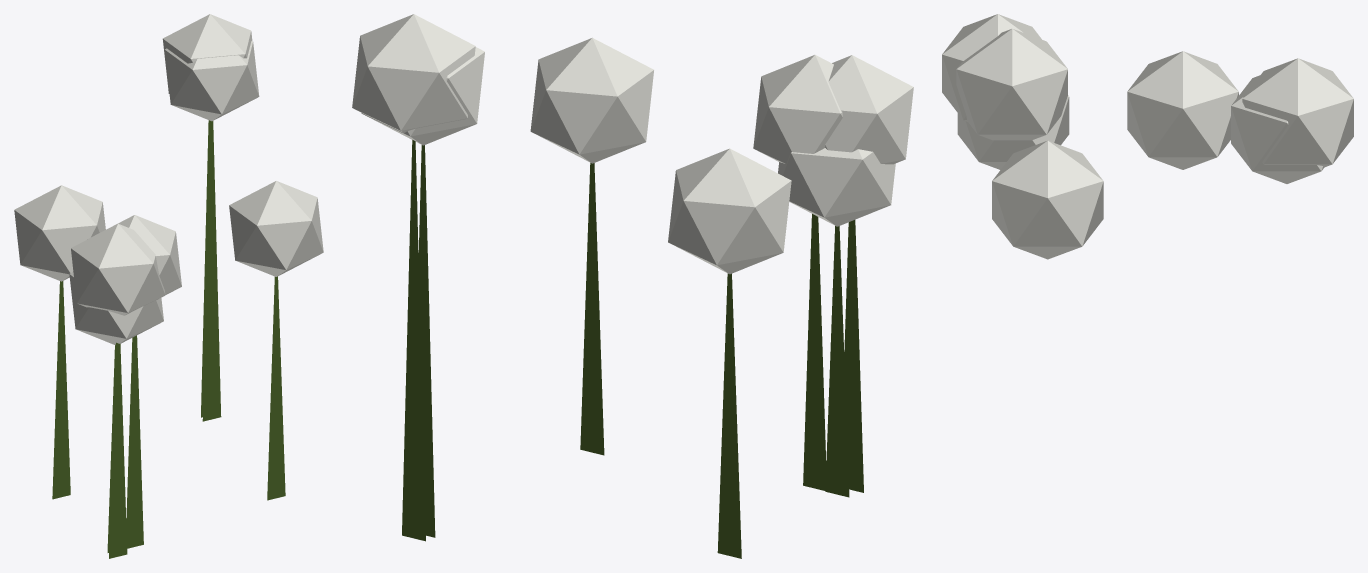
Rendered from flower_petal_w.glb.
3 renders of one model, left to right at view 1: azimuth 30°, elevation 25°; view 2: azimuth 150°, elevation 25°; view 3: azimuth 270°, elevation 25°, orthographic. The views are drawn at different scales.
Parts seen in each view (by area): view 1: flower_src_petal_w; view 2: flower_src_petal_w; view 3: flower_src_petal_w.
Part boxes in pixels (<box>): flower_src_petal_w: <box>14,14,323,558</box>; flower_src_petal_w: <box>352,14,913,558</box>; flower_src_petal_w: <box>942,14,1353,259</box>.
Size of the model in its own units: 0.257 by 0.3329 by 0.251.
